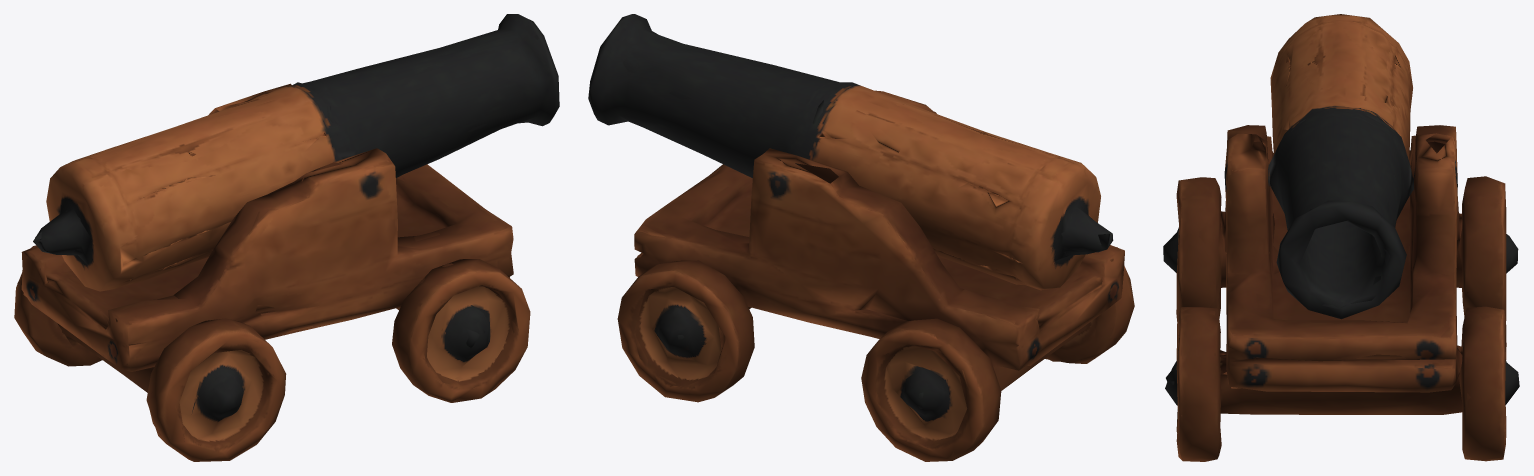
File: kanone.glb
The picture shows the model from 3 angles, left to right: view 1: azimuth 30°, elevation 25°; view 2: azimuth 150°, elevation 25°; view 3: azimuth 270°, elevation 25°; orthographic projection. The views are drawn at different scales.
Size of the model in its own units: 0.9969 by 0.576 by 0.5776.
1 material, 1 textured.
